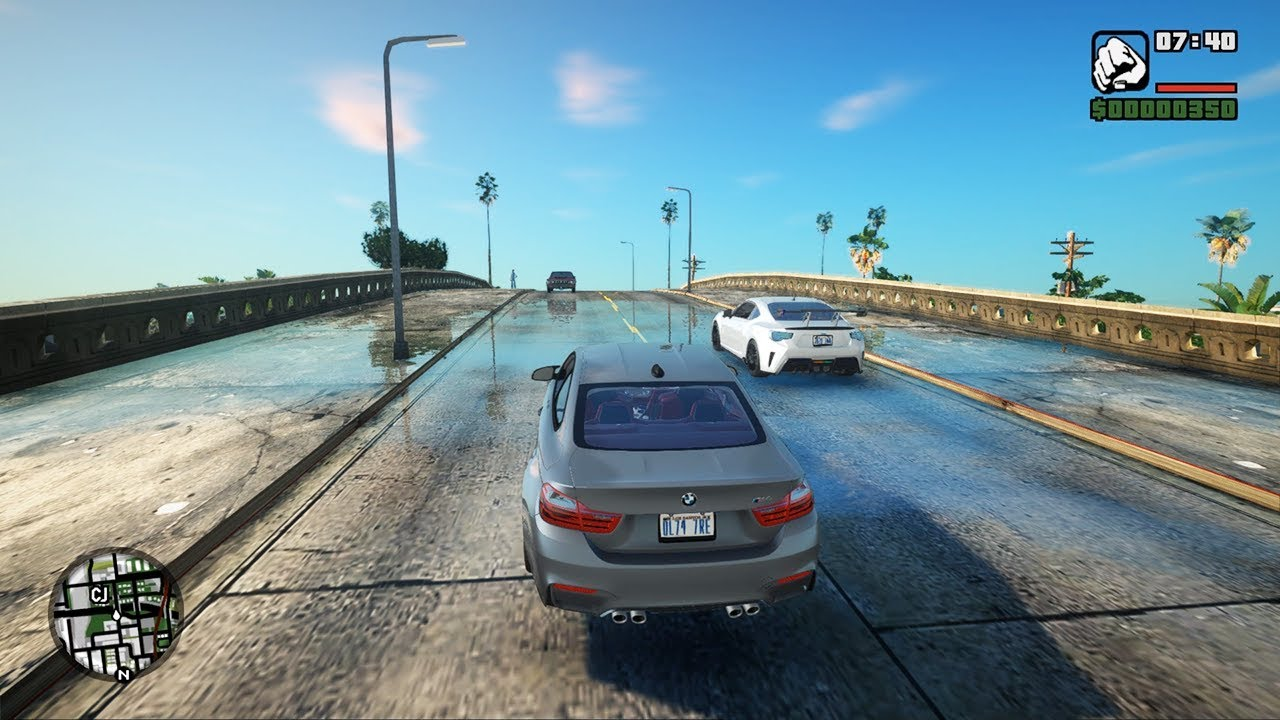car: (522, 341, 825, 624), (715, 295, 872, 390), (541, 263, 577, 298)
